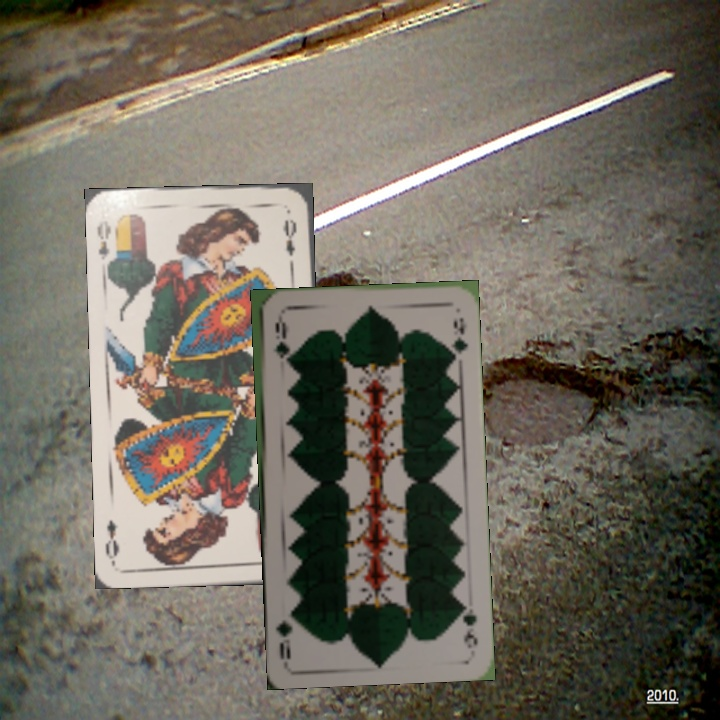EO: (93, 216, 113, 262)
G9: (457, 596, 480, 652), (271, 313, 287, 361)
